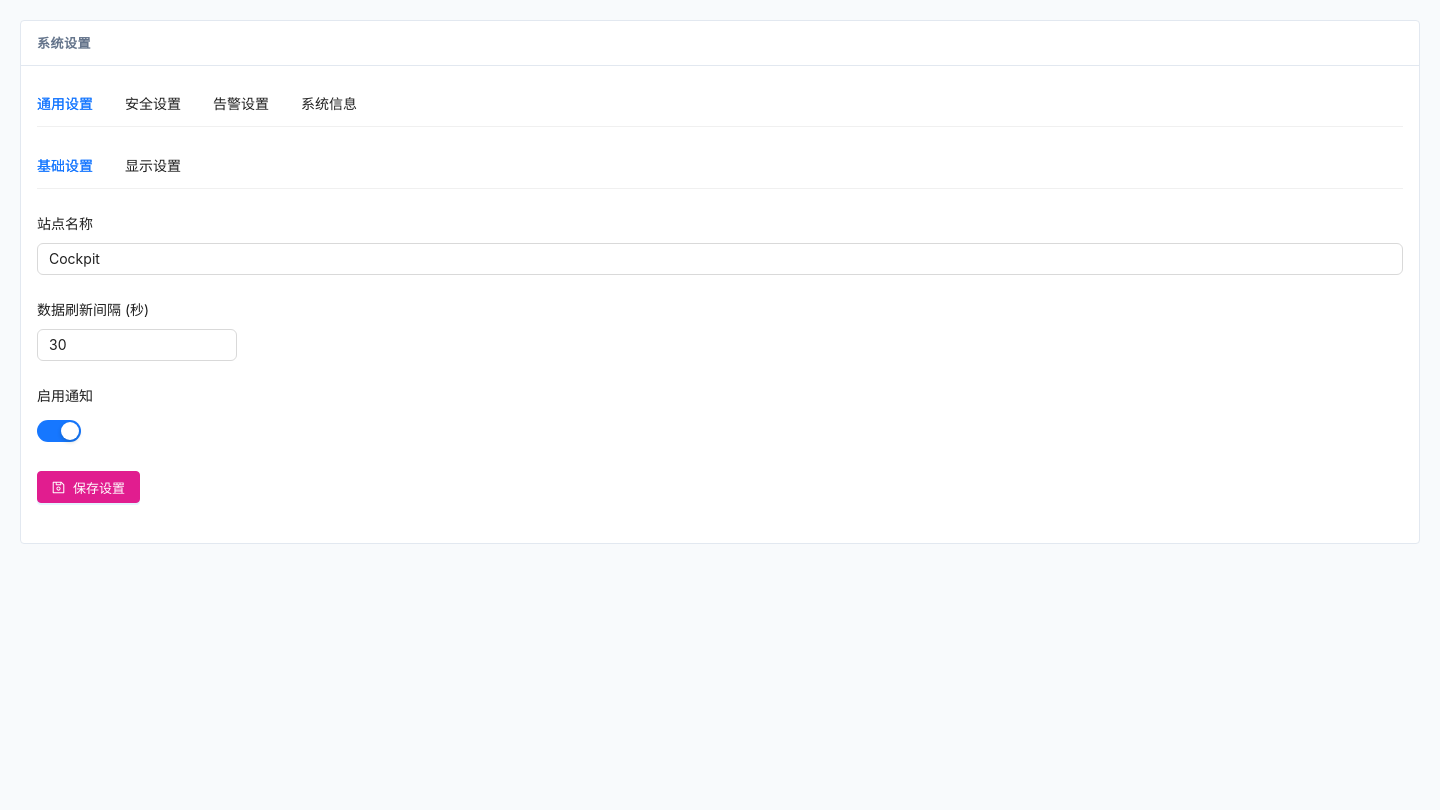
Test: Settings › getCurrentUser 失败：降级 localStorage 用户名
Click the tab "安全设置".
click(153, 104)  # box [125,93,181,115]
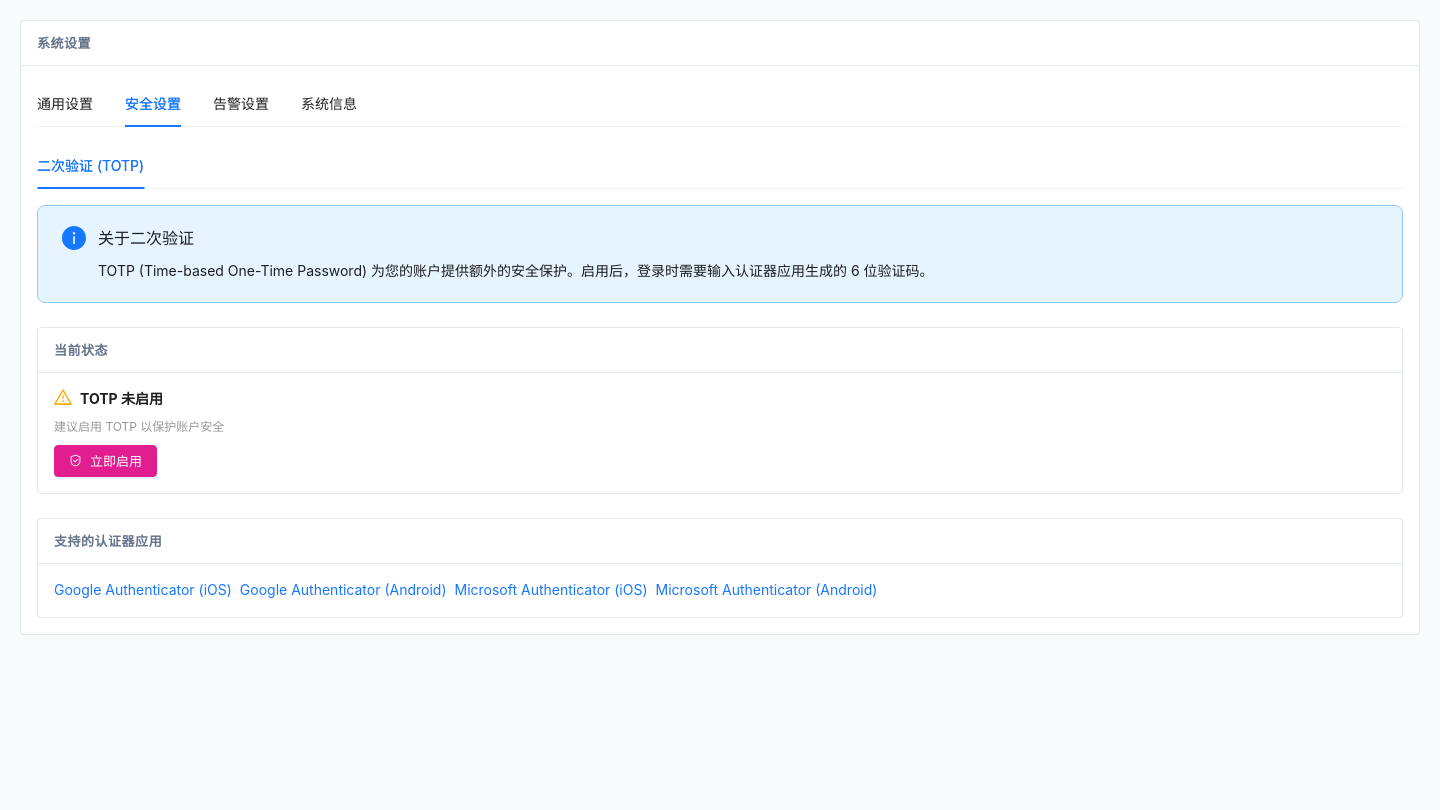
Expected: the text "关于二次验证" is shown, [98,228,194,248]
Expected: the text "TOTP 未启用" is shown, [80,390,163,407]
